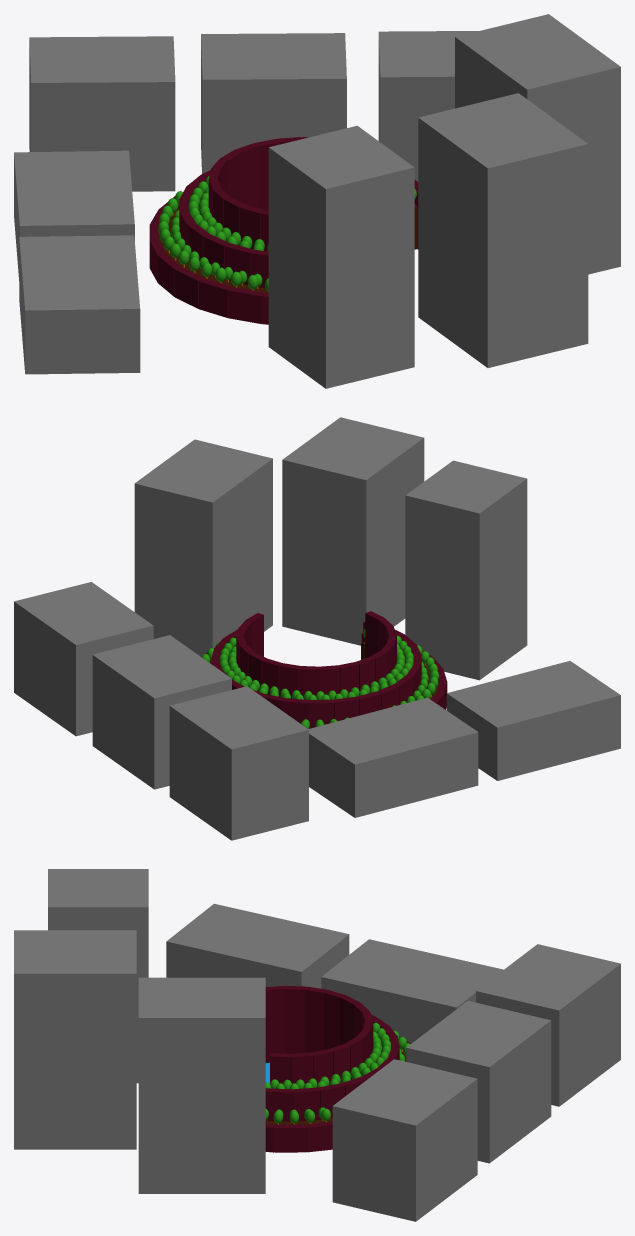
3 views of the same model, one above another, from view 1: azimuth 30°, elevation 25°; view 2: azimuth 150°, elevation 25°; view 3: azimuth 270°, elevation 25° (orthographic). The views are drawn at different scales.
Visible parts, largest first — view 1: build_south, build_west, build_north3, build_east, build_prezzo, build_north2, build_p2, build_north1, wall3, wall1, wall2, leaf (+4 smaller); view 2: build_south, build_east, build_west, build_north3, build_p2, build_prezzo, build_north1, build_north2, wall3, wall2, leaf.001, leaf.003 (+1 smaller); view 3: build_east, build_south, build_north1, build_north2, build_north3, build_prezzo, build_p2, wall3, build_west, wall2, wall1, leaf.001 (+2 smaller).
Boxes of the visible parts, box(x1,y1,x2,y2) form: build_south: box(418, 93, 588, 367); build_west: box(268, 125, 414, 388); build_north3: box(29, 36, 175, 191); build_east: box(455, 14, 620, 274); build_prezzo: box(19, 235, 140, 374); build_north2: box(201, 33, 346, 173); build_p2: box(14, 150, 134, 280); build_north1: box(378, 31, 478, 181); wall3: box(208, 137, 308, 251); wall1: box(149, 196, 268, 324); wall2: box(179, 170, 418, 288); leaf: box(158, 185, 268, 290); build_south: box(282, 417, 424, 645); build_east: box(134, 439, 272, 656); build_west: box(405, 460, 527, 680); build_north3: box(169, 686, 308, 840); build_p2: box(308, 697, 478, 817); build_prezzo: box(446, 661, 620, 780); build_north1: box(14, 582, 153, 736); build_north2: box(92, 635, 231, 789); wall3: box(236, 611, 396, 699); wall2: box(211, 621, 421, 728); leaf.001: box(219, 635, 413, 699); leaf.003: box(228, 629, 404, 699); build_east: box(138, 977, 265, 1193); build_south: box(14, 930, 136, 1149); build_north1: box(332, 1059, 477, 1221); build_north2: box(406, 1001, 551, 1163); build_north3: box(476, 944, 620, 1106); build_prezzo: box(166, 903, 349, 988); build_p2: box(321, 939, 503, 1043); wall3: box(265, 985, 373, 1085); build_west: box(48, 869, 148, 1083); wall2: box(265, 1014, 399, 1121); wall1: box(265, 1036, 410, 1152); leaf.001: box(265, 1022, 390, 1089).
Size of the model in its own units: 23.39 by 7.45 by 22.8.
